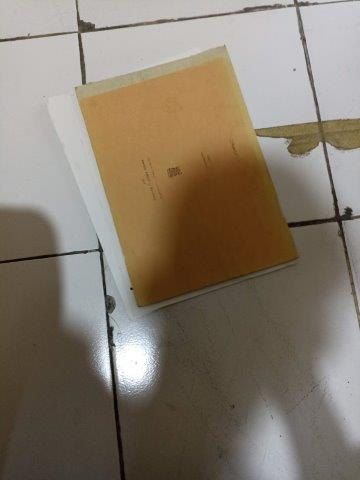kertas: (47, 44, 299, 322)
